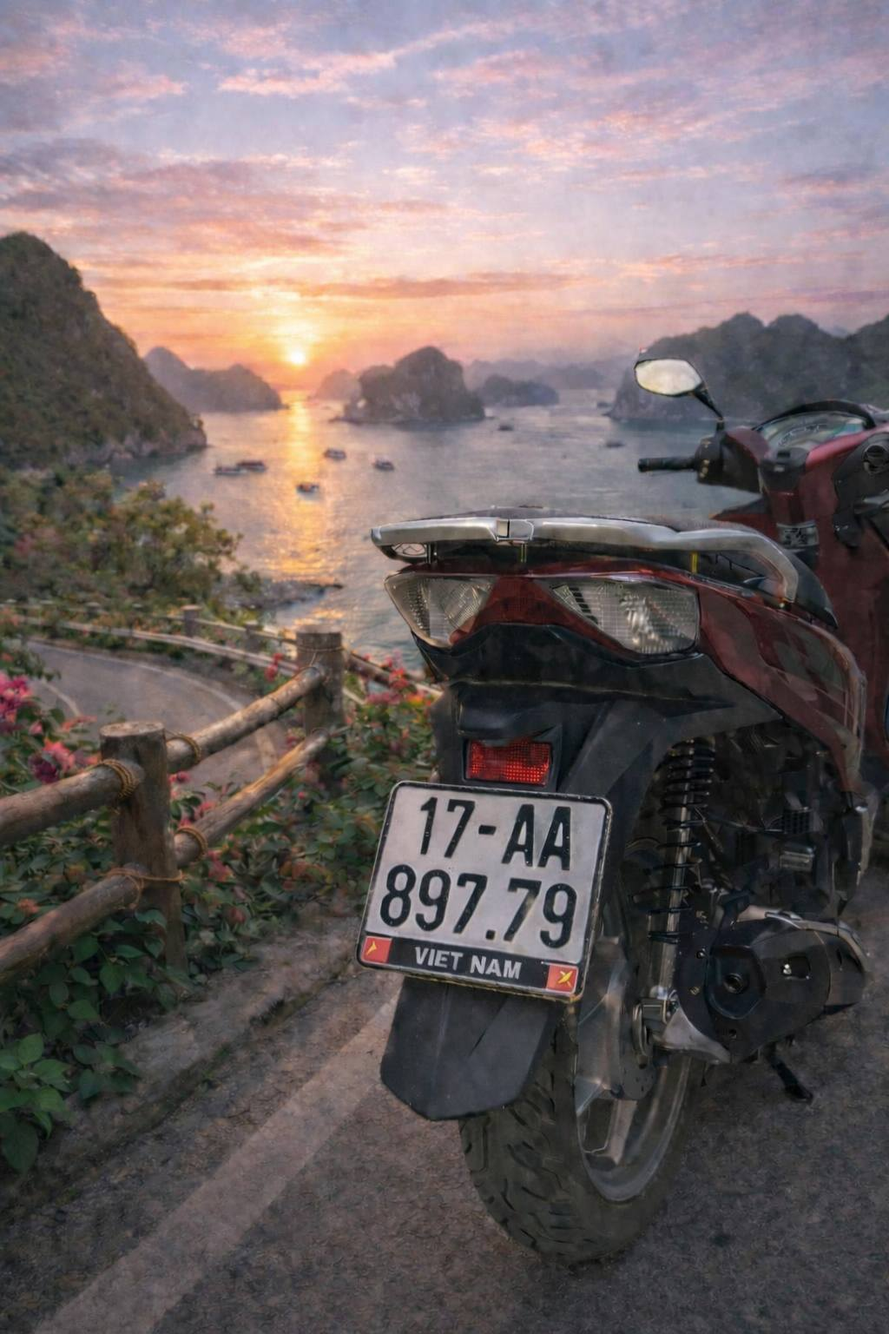bien_so: (350, 769, 618, 1017)
